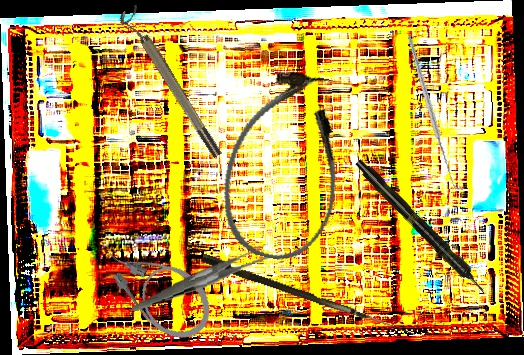Cannula: (209, 61, 362, 270), (94, 223, 225, 353)
Dressing Forceps: (127, 243, 275, 312)
Fixation Ring: (116, 4, 225, 164)
Handpiece: (352, 155, 490, 299)
Hook Surgical: (373, 32, 497, 193), (199, 253, 419, 336)
